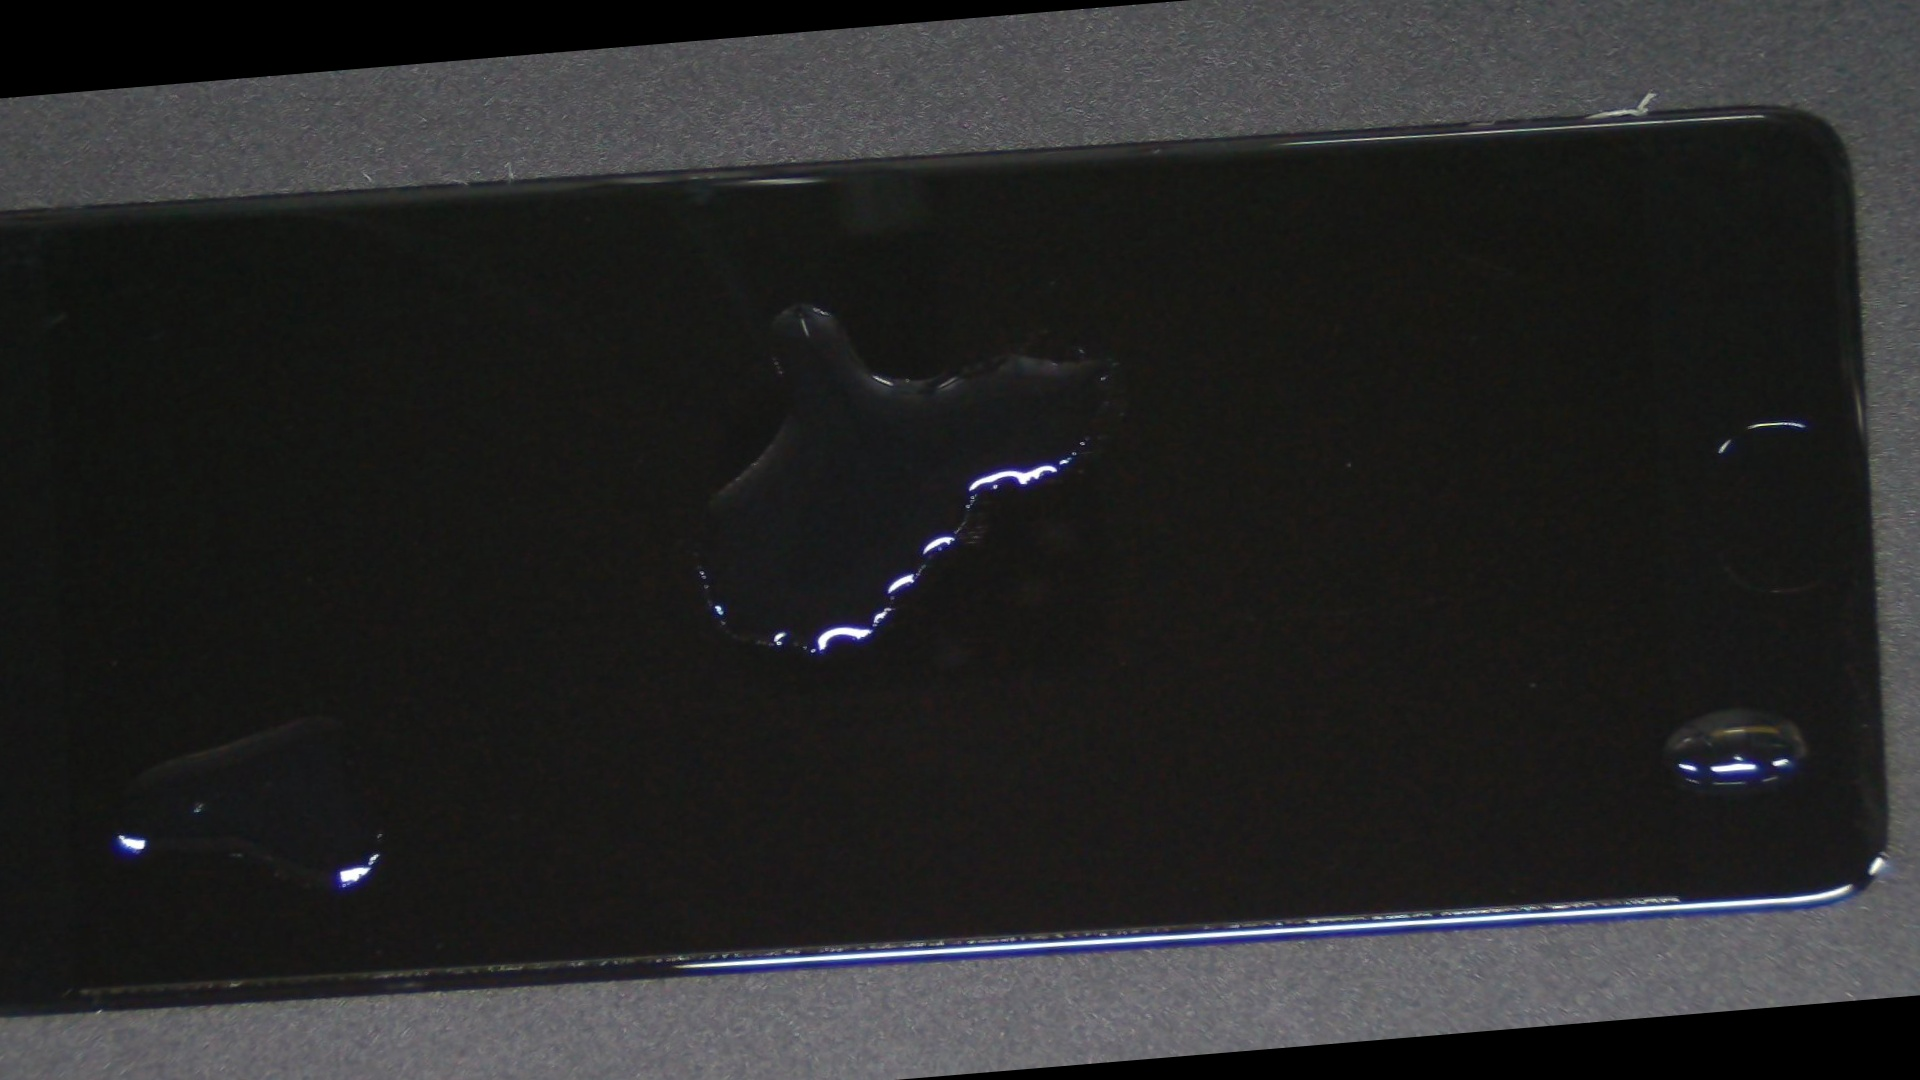oil: (745, 310, 1920, 1080), (36, 376, 589, 1056), (278, 127, 1316, 479)
